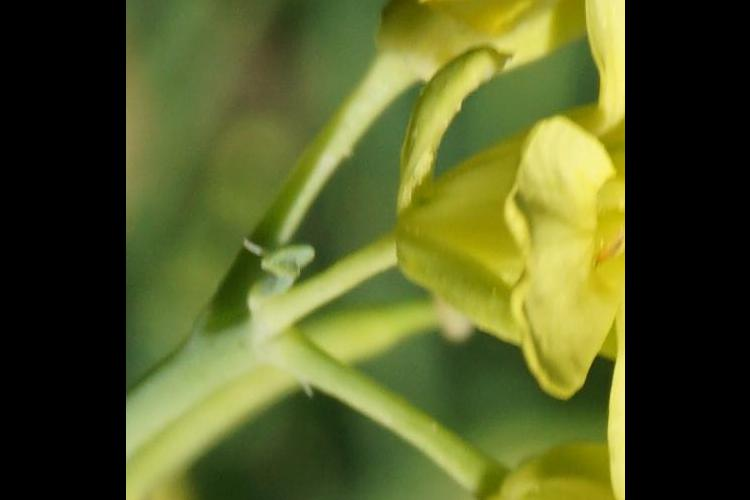yellow: (370, 115, 609, 364), (356, 1, 616, 107), (458, 447, 620, 500)
